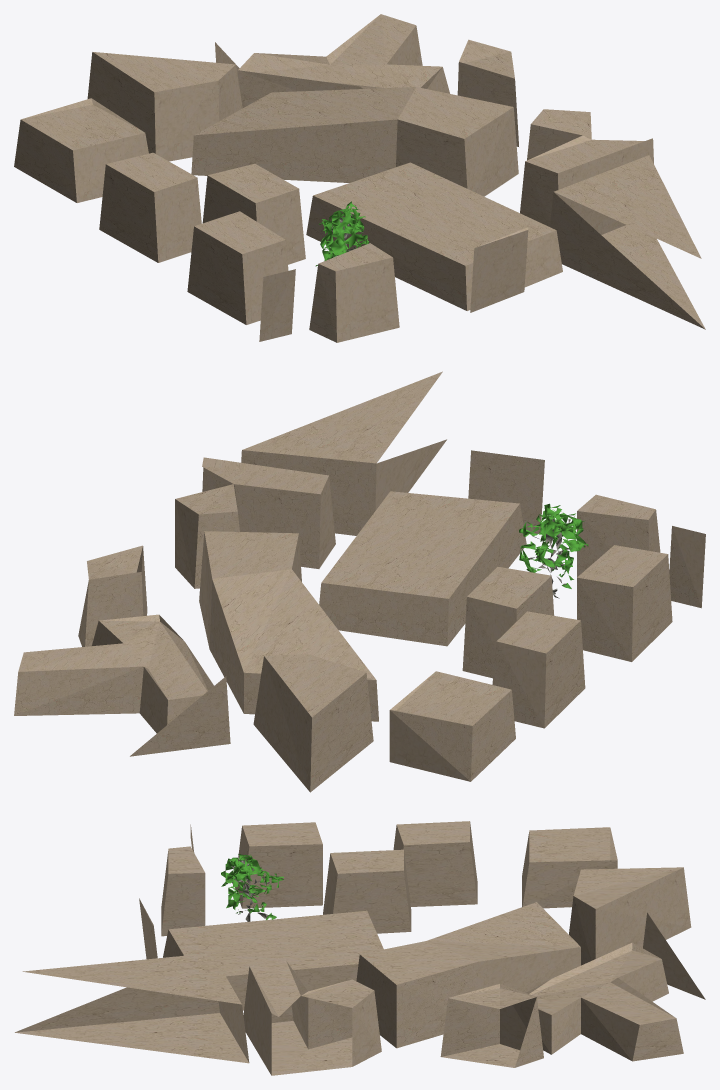
Rendered from tile_-2_-2.gltf.
3 views of the same model, one above another, from view 1: azimuth 30°, elevation 25°; view 2: azimuth 150°, elevation 25°; view 3: azimuth 270°, elevation 25° (orthographic). The views are drawn at different scales.
Parts seen in each view (by area): view 1: Plane.011@tile_-2_-2, Bodhi Tree_Bodhi_front_2_Mat_0.044@tile_-2_-2; view 2: Plane.011@tile_-2_-2, Bodhi Tree_Bodhi_front_2_Mat_0.044@tile_-2_-2; view 3: Plane.011@tile_-2_-2, Bodhi Tree_Bodhi_front_2_Mat_0.044@tile_-2_-2.
Part boxes in pixels (x1,y1,x2,y2): Plane.011@tile_-2_-2: (14, 14, 705, 342); Bodhi Tree_Bodhi_front_2_Mat_0.044@tile_-2_-2: (315, 201, 368, 266); Plane.011@tile_-2_-2: (14, 371, 705, 792); Bodhi Tree_Bodhi_front_2_Mat_0.044@tile_-2_-2: (519, 503, 588, 598); Plane.011@tile_-2_-2: (15, 821, 705, 1075); Bodhi Tree_Bodhi_front_2_Mat_0.044@tile_-2_-2: (221, 854, 283, 921).
Bounding box in the file's own units: 57.29 × 11.27 × 84.69.
Materials: 3 (2 with a texture image).
